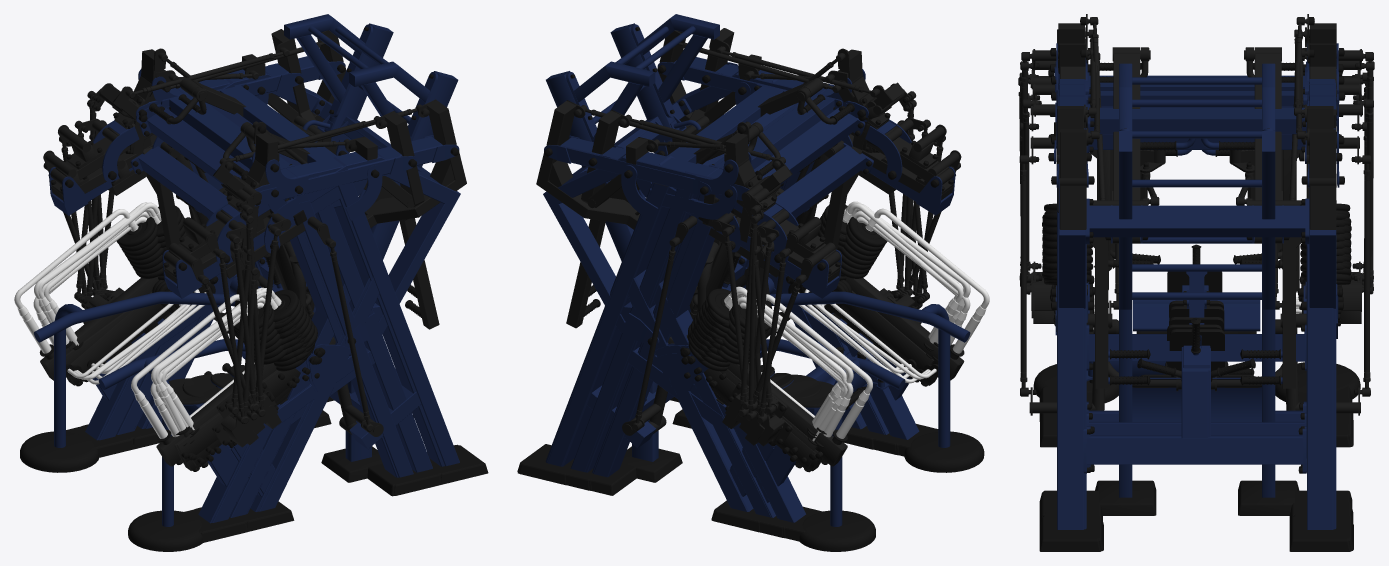
Rendered from package.glb.
The picture shows the model from 3 angles, left to right: view 1: azimuth 30°, elevation 25°; view 2: azimuth 150°, elevation 25°; view 3: azimuth 270°, elevation 25°; orthographic projection. The views are drawn at different scales.
Parts seen in each view (by area): view 1: Lowpoly МВ 7.37.3, Lowpoly МВ 7.42.3, МВ 7.30.009, Lowpoly МВ 7.47.3, МВ 7.38.3, МВ 7.29.3, Lowpoly МВ 7.39.3, Lowpoly МВ 7.56.3, МВ 7.31.001; view 2: Lowpoly МВ 7.56.3, МВ 7.38.3, Lowpoly МВ 7.47.3, МВ 7.30.009, Lowpoly МВ 7.39.3, МВ 7.29.3, МВ 7.31.001, Lowpoly МВ 7.37.3, Lowpoly МВ 7.42.3; view 3: Lowpoly МВ 7.42.3, МВ 7.38.3, Lowpoly МВ 7.47.3, Lowpoly МВ 7.56.3, Lowpoly МВ 7.37.3, МВ 7.31.001, МВ 7.30.009, Lowpoly МВ 7.39.3, МВ 7.29.3.
Boxes of the visible parts, <box> form: Lowpoly МВ 7.37.3: <box>38,29,441,542</box>; Lowpoly МВ 7.42.3: <box>44,79,488,531</box>; МВ 7.30.009: <box>14,87,436,520</box>; Lowpoly МВ 7.47.3: <box>20,14,458,551</box>; МВ 7.38.3: <box>33,48,460,525</box>; МВ 7.29.3: <box>49,125,478,526</box>; Lowpoly МВ 7.39.3: <box>34,88,434,533</box>; Lowpoly МВ 7.56.3: <box>42,30,466,452</box>; МВ 7.31.001: <box>49,54,458,469</box>; Lowpoly МВ 7.56.3: <box>519,30,963,532</box>; МВ 7.38.3: <box>543,48,970,537</box>; Lowpoly МВ 7.47.3: <box>546,14,984,551</box>; МВ 7.30.009: <box>585,85,989,538</box>; Lowpoly МВ 7.39.3: <box>571,85,970,541</box>; МВ 7.29.3: <box>525,124,957,520</box>; МВ 7.31.001: <box>518,54,964,520</box>; Lowpoly МВ 7.37.3: <box>566,28,964,520</box>; Lowpoly МВ 7.42.3: <box>517,79,958,519</box>; Lowpoly МВ 7.42.3: <box>1019,102,1370,551</box>; МВ 7.38.3: <box>1020,14,1374,525</box>; Lowpoly МВ 7.47.3: <box>1033,63,1360,515</box>; Lowpoly МВ 7.56.3: <box>1022,50,1373,549</box>; Lowpoly МВ 7.37.3: <box>1019,27,1367,525</box>; МВ 7.31.001: <box>1021,38,1373,551</box>; МВ 7.30.009: <box>1021,61,1367,514</box>; Lowpoly МВ 7.39.3: <box>1028,76,1364,513</box>; МВ 7.29.3: <box>1018,59,1373,537</box>.
Bounding box in the file's own units: 2.02 × 2.15 × 1.59.
